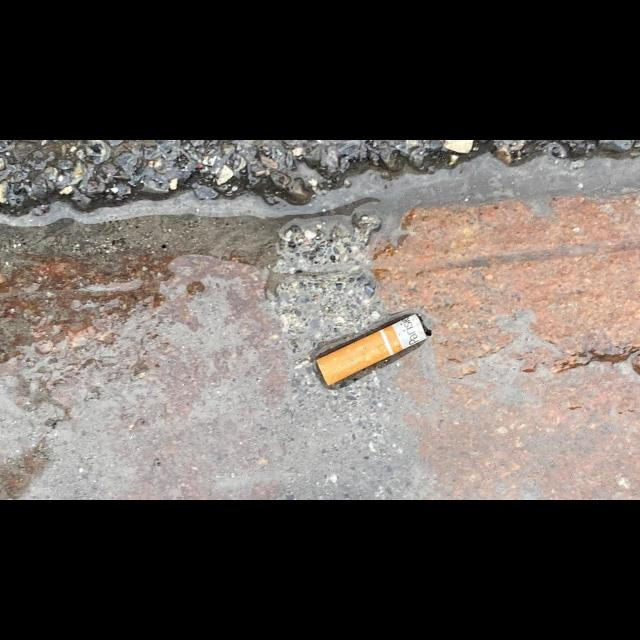cigarette: (315, 313, 428, 387)
